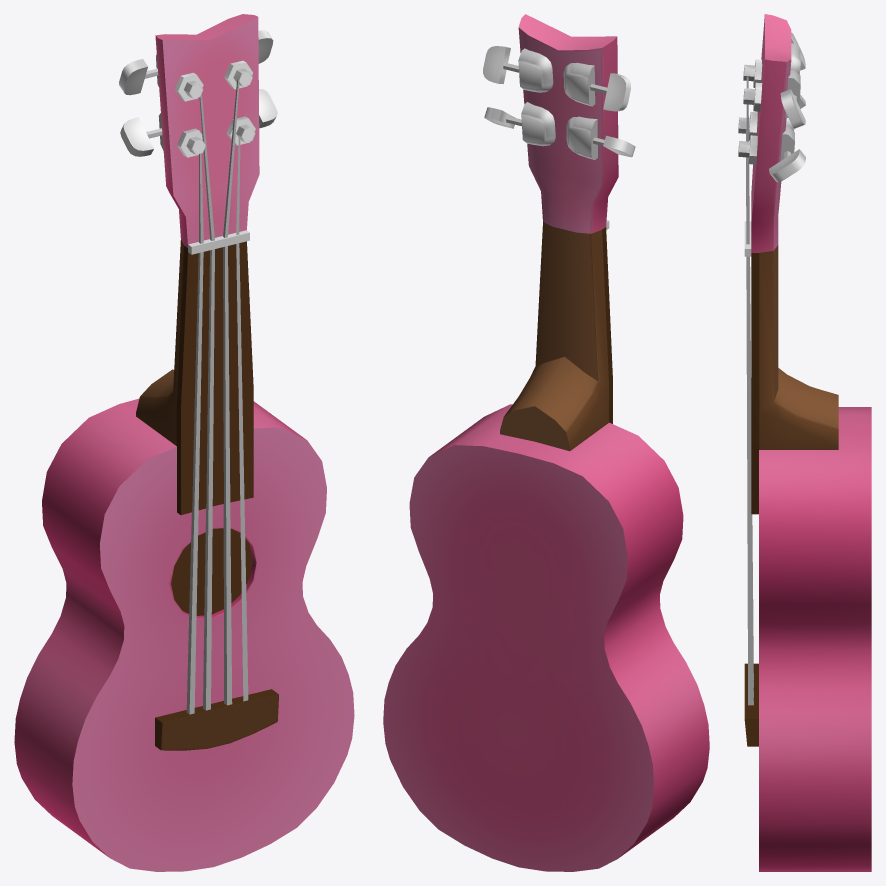
The model's file is ENV2010057.fbx.
3 renders of one model, left to right at view 1: azimuth 30°, elevation 25°; view 2: azimuth 150°, elevation 25°; view 3: azimuth 270°, elevation 25°, orthographic. The views are drawn at different scales.
Parts seen in each view (by area): view 1: smENV2010057; view 2: smENV2010057; view 3: smENV2010057.
Boxes of the visible parts, left/top/right/bottom form: smENV2010057: left=14, top=14, right=354, bottom=871; smENV2010057: left=383, top=14, right=709, bottom=871; smENV2010057: left=738, top=14, right=871, bottom=871.
Bounding box in the file's own units: 15.82 × 44.82 × 6.66.
Materials: 1 (1 with a texture image).
